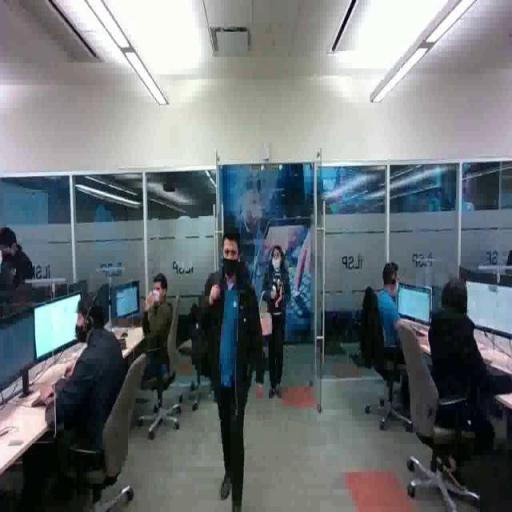person: (205, 222, 264, 512), (265, 248, 291, 400)
